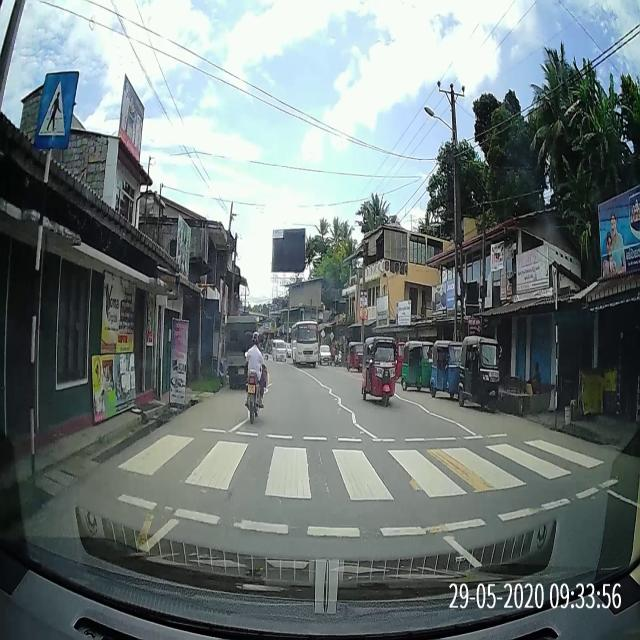Crosswalk: (85, 417, 638, 547)
